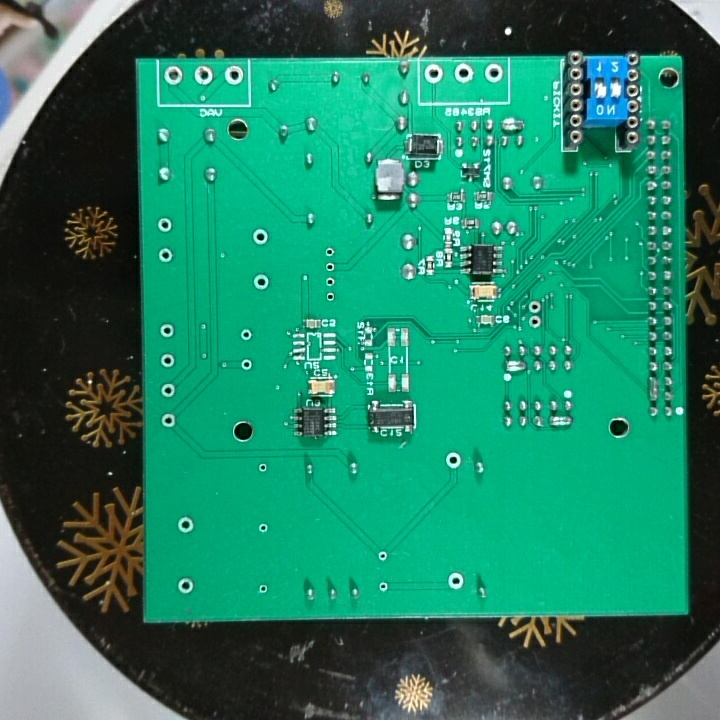F: (422, 61, 445, 87), (482, 60, 505, 85), (191, 64, 216, 87), (174, 512, 197, 537), (250, 225, 272, 251), (222, 64, 245, 88), (162, 63, 185, 87), (452, 61, 475, 84), (175, 575, 197, 598), (445, 569, 467, 592), (443, 449, 465, 472), (154, 214, 176, 235), (155, 244, 176, 266), (251, 271, 271, 294), (159, 378, 177, 400), (158, 320, 176, 340), (159, 412, 177, 431), (159, 351, 176, 370), (525, 298, 543, 315), (525, 314, 543, 331), (238, 355, 256, 372), (238, 326, 253, 346), (254, 580, 271, 597), (257, 520, 271, 540), (374, 577, 391, 593), (322, 243, 338, 260), (255, 459, 270, 477), (322, 260, 339, 275), (322, 289, 339, 304), (320, 275, 339, 288), (374, 548, 390, 563)
P: (546, 412, 573, 429), (503, 357, 527, 376), (499, 115, 525, 132), (645, 373, 660, 402)
